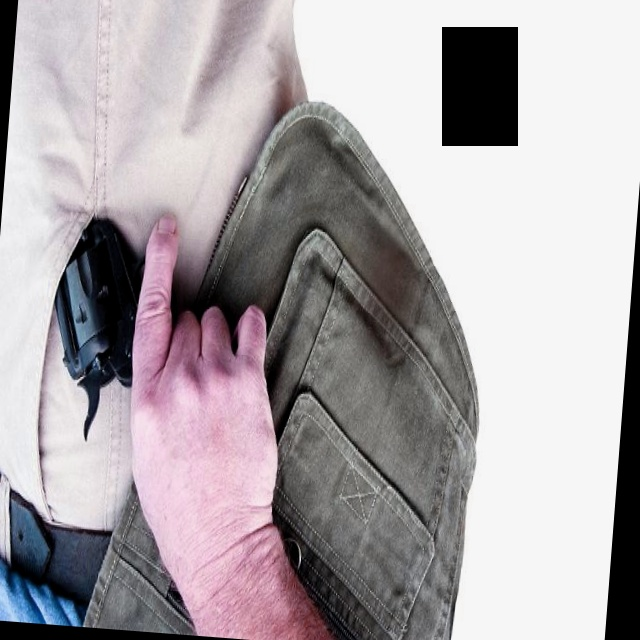gun: (36, 178, 249, 467)
